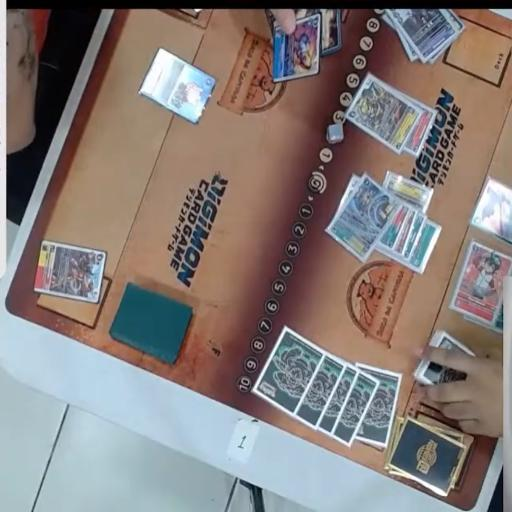card: (325, 174, 394, 262), (346, 73, 420, 152), (139, 48, 216, 123), (452, 240, 512, 322), (34, 240, 106, 303), (386, 9, 455, 62), (272, 13, 321, 82), (471, 177, 512, 245), (383, 170, 433, 213), (404, 100, 436, 157), (410, 220, 440, 269), (381, 205, 410, 248), (403, 214, 426, 259), (393, 210, 415, 254)
